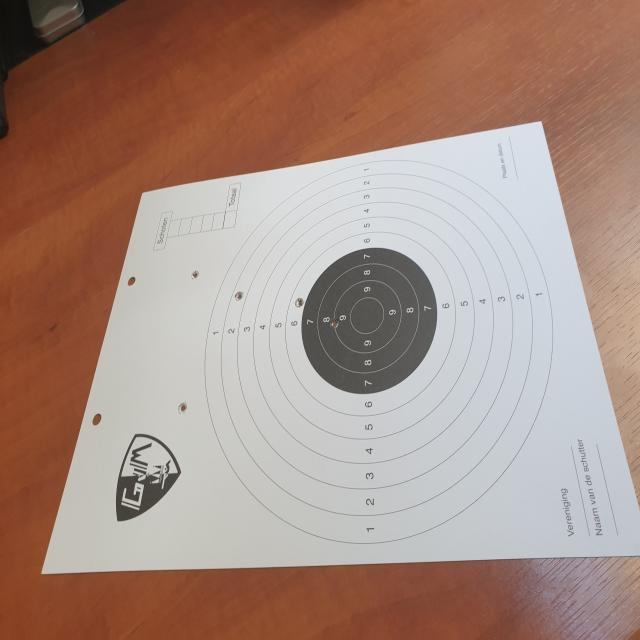10: (329, 316, 341, 328)
3: (234, 290, 244, 302)
7: (294, 296, 304, 308)
Black Contour: (302, 246, 438, 394)
Target: (202, 157, 556, 546)
hole: (176, 401, 188, 416), (190, 269, 200, 281)
